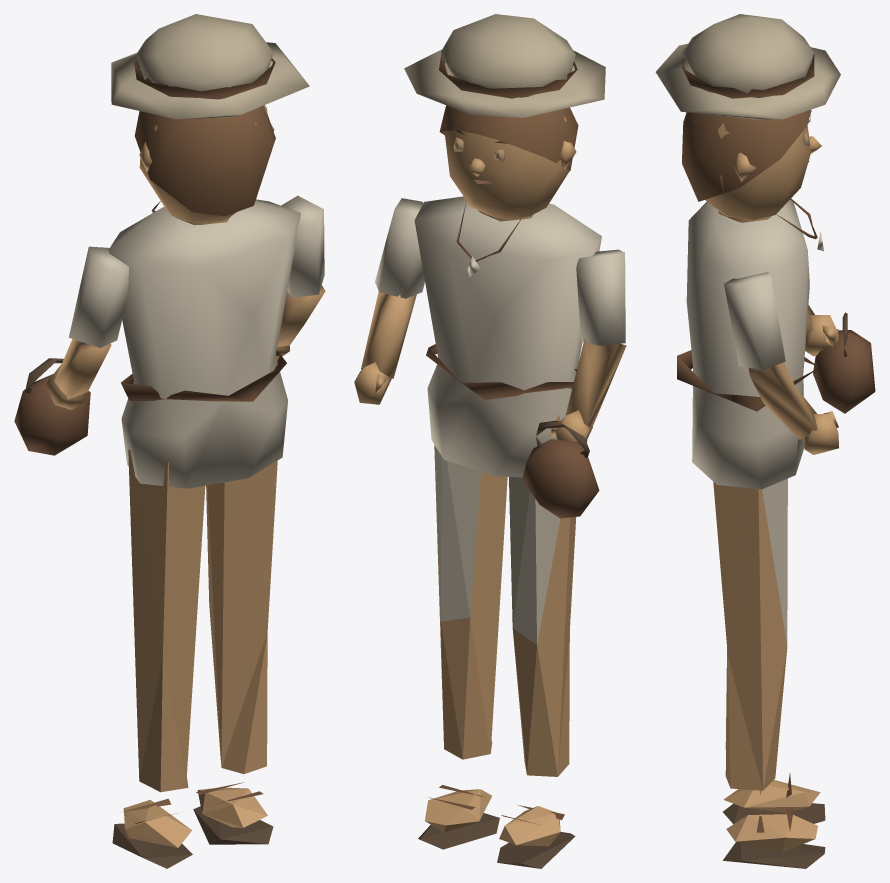
Rendered from SM_NPC_CONCHA_BAJA.glb.
3 renders of one model, left to right at view 1: azimuth 30°, elevation 25°; view 2: azimuth 150°, elevation 25°; view 3: azimuth 270°, elevation 25°, orthographic. The views are drawn at different scales.
Visible parts, largest first — view 1: SM_NPC_CONCHA_BODY, SM_NPC_CONCHA_HEAD, SM_NPC_CONCHA_ARMS; view 2: SM_NPC_CONCHA_BODY, SM_NPC_CONCHA_HEAD, SM_NPC_CONCHA_ARMS; view 3: SM_NPC_CONCHA_BODY, SM_NPC_CONCHA_HEAD, SM_NPC_CONCHA_ARMS.
Part boxes in pixels (x1,y1,x2,y2): SM_NPC_CONCHA_BODY: (108, 199, 300, 868); SM_NPC_CONCHA_HEAD: (111, 14, 309, 222); SM_NPC_CONCHA_ARMS: (14, 195, 325, 455); SM_NPC_CONCHA_BODY: (414, 196, 601, 868); SM_NPC_CONCHA_HEAD: (404, 14, 605, 220); SM_NPC_CONCHA_ARMS: (354, 198, 626, 518); SM_NPC_CONCHA_BODY: (677, 198, 825, 868); SM_NPC_CONCHA_HEAD: (655, 14, 840, 220); SM_NPC_CONCHA_ARMS: (724, 272, 875, 454).
Bounding box in the file's own units: 0.6367 × 1.89 × 0.4619.
